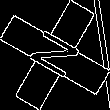N_SE: (23, 25, 87, 85)
